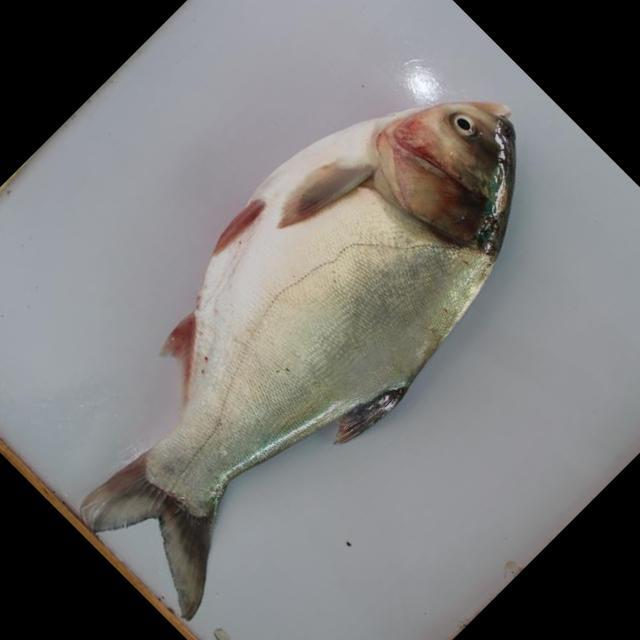SilverCarp: (53, 57, 524, 608)
